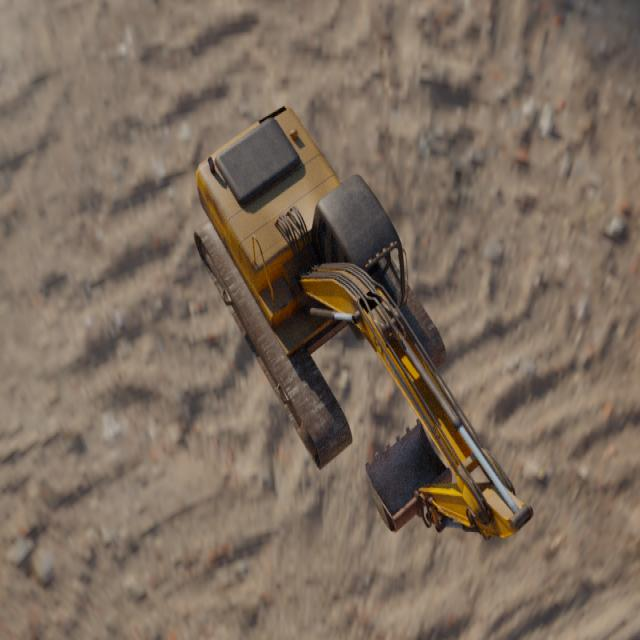excavator: (192, 104, 533, 541)
